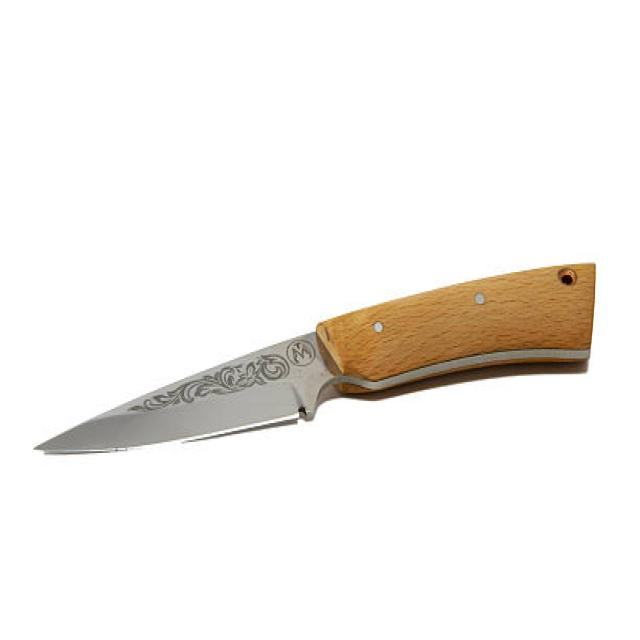knife: (29, 254, 607, 472)
